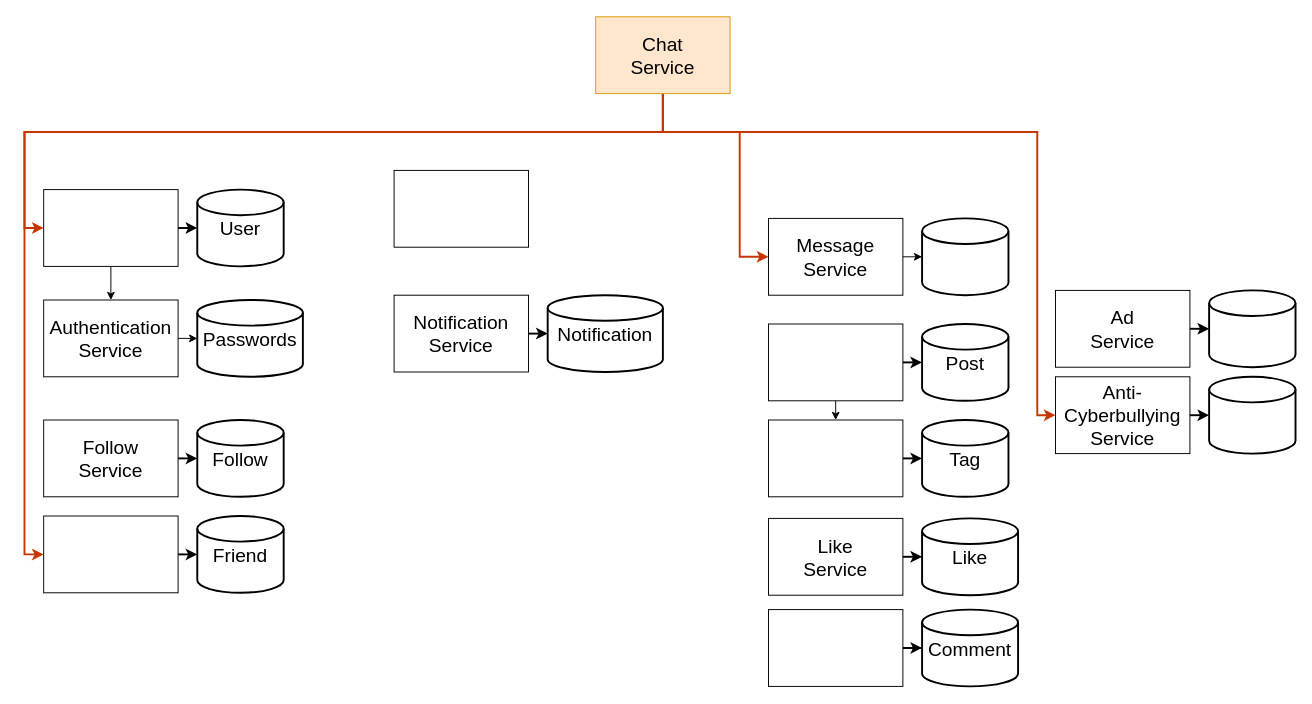
Some shapes in this 1312 by 704 pixel diagram are drawn without their labels. The centre of each missing label's shape, as x and y in pixels:
"Ad" belongs at point (1252, 328).
"Banword" belongs at point (1252, 414).
"Comment Service" belongs at point (835, 647).
"Friend Service" belongs at point (110, 554).
"Message" belongs at point (965, 256).
"Newsfeed Service" belongs at point (460, 208).
"Post Service" belongs at point (835, 362).
"Tag Service" belongs at point (835, 458).
"User Service" belongs at point (110, 227).
